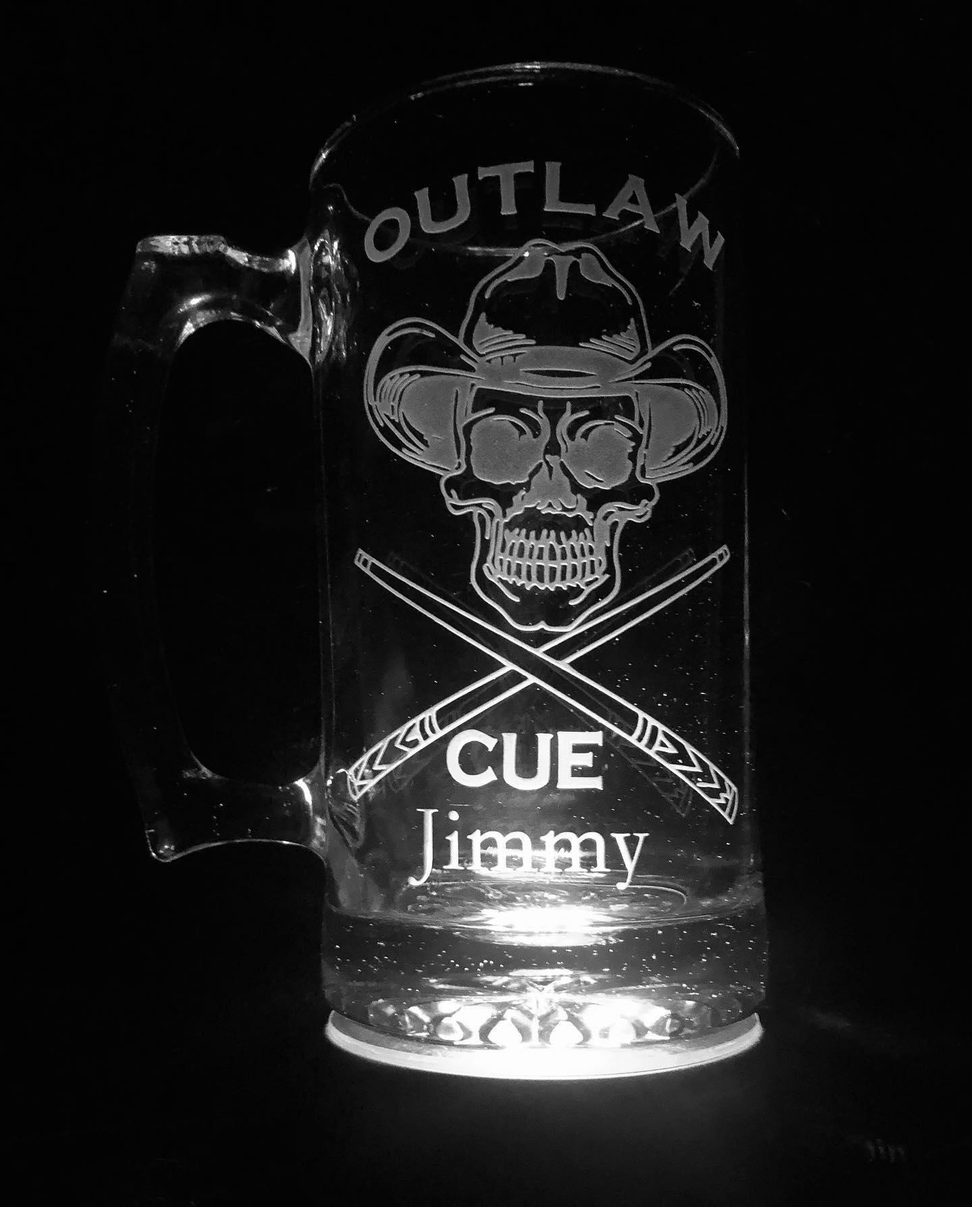glass-mug: (48, 47, 797, 1104)
